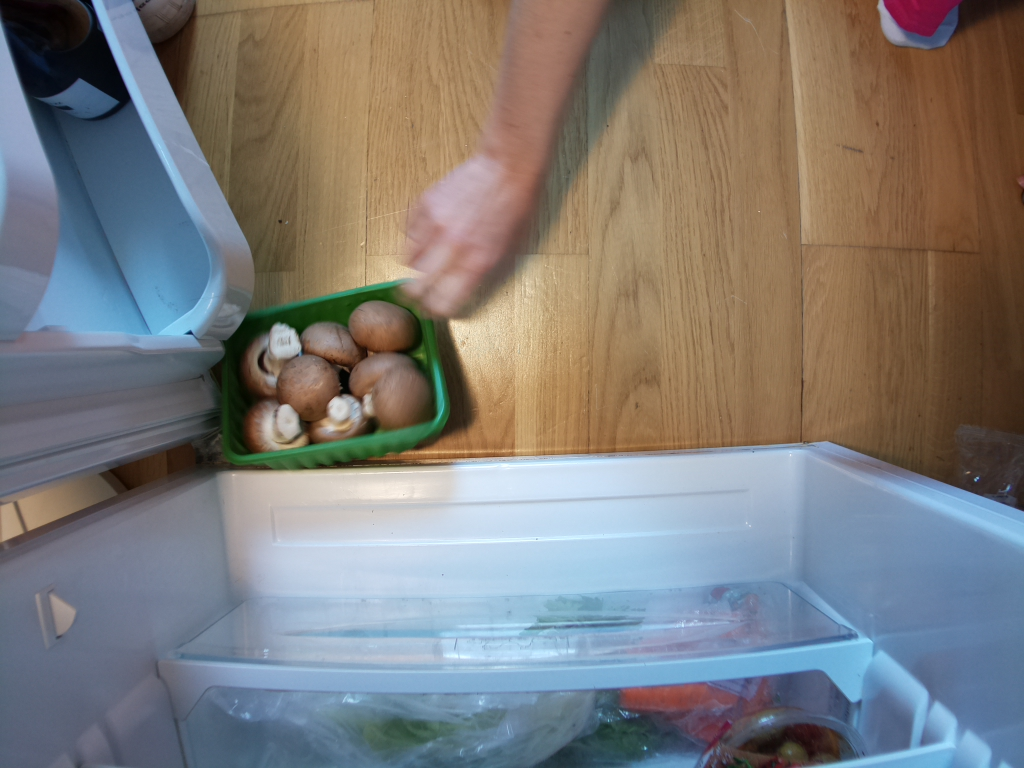mushrooms: (211, 265, 455, 470)
